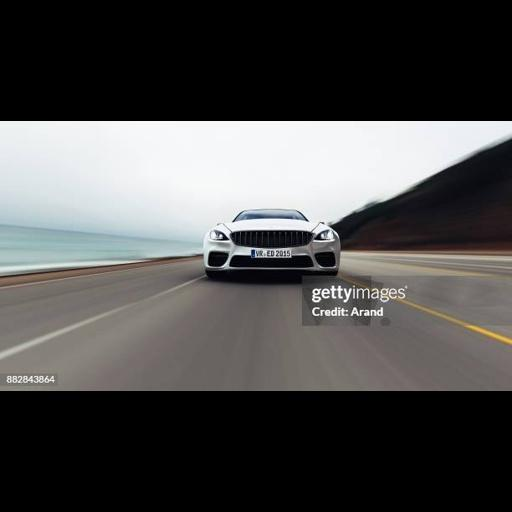sedan: (204, 208, 339, 277)
